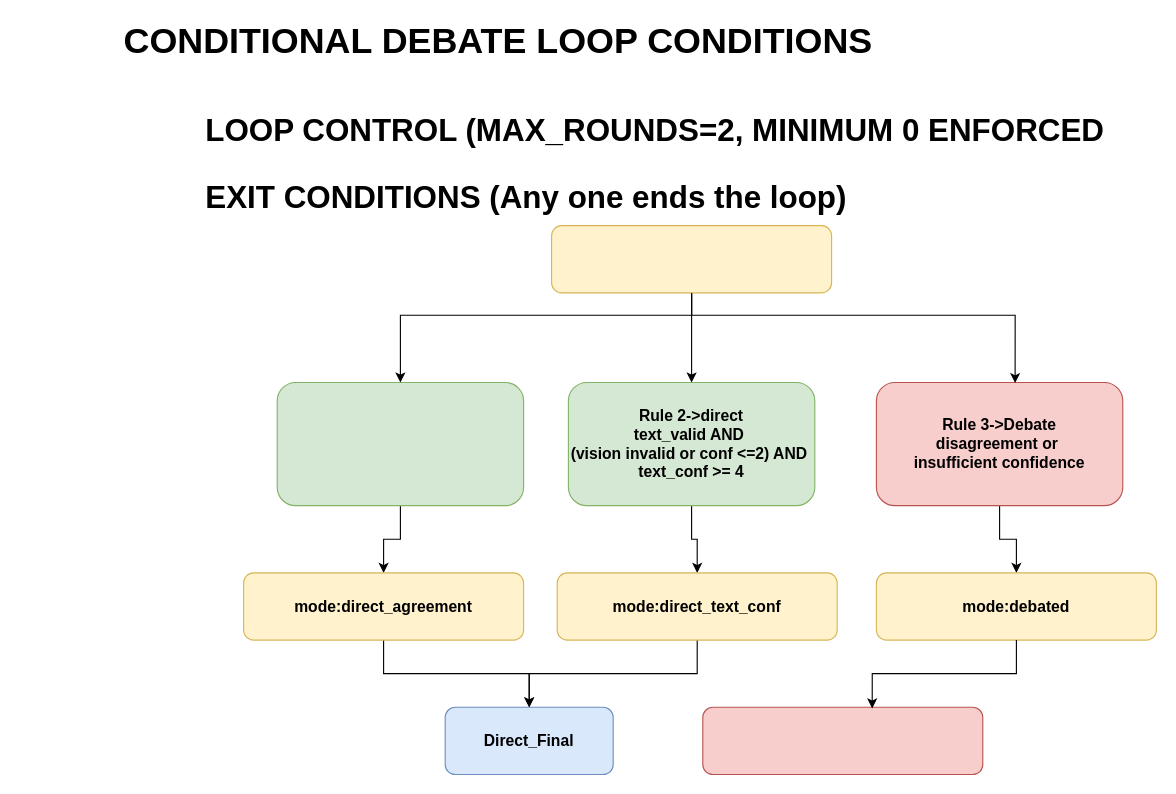
The diagram is 1176 pixels wide and 794 high, and some of its shapes have lost their labels. Each missing label, with the centre of its shape:
"agreement_Check evaluate in order" goes at point (691, 259).
"Debate Loop -> Meta" goes at point (842, 740).
"Rule 1->direct agree AND text_Conf >= 3 AND vision_conf >= 3" goes at point (400, 443).
